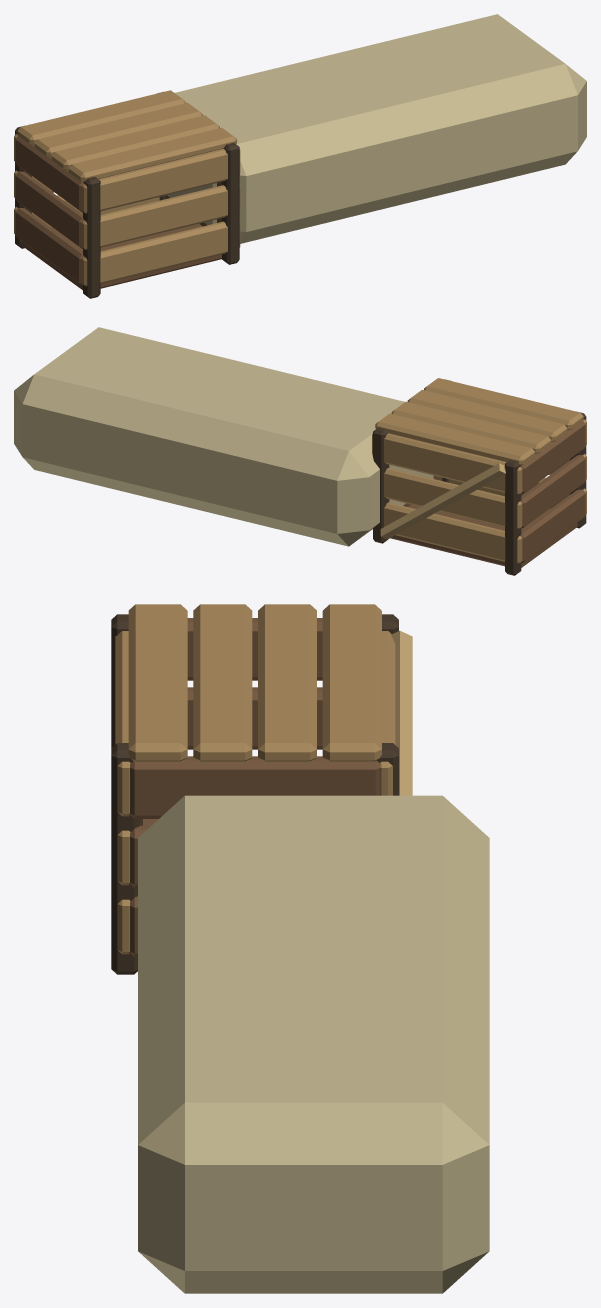
Rendered from Camp_Medical_L0.fbx.
The picture shows the model from 3 angles, top to bottom: view 1: azimuth 30°, elevation 25°; view 2: azimuth 150°, elevation 25°; view 3: azimuth 270°, elevation 25°; orthographic projection. The views are drawn at different scales.
Parts seen in each view (by area): view 1: Camp_Medical_L0_Export; view 2: Camp_Medical_L0_Export; view 3: Camp_Medical_L0_Export.
Part boxes in pixels (x1,y1,x2,y2): Camp_Medical_L0_Export: (14, 14, 586, 298); Camp_Medical_L0_Export: (14, 327, 586, 575); Camp_Medical_L0_Export: (111, 604, 489, 1293).
Bounding box in the file's own units: 1.95 × 0.4387 × 0.6454.
